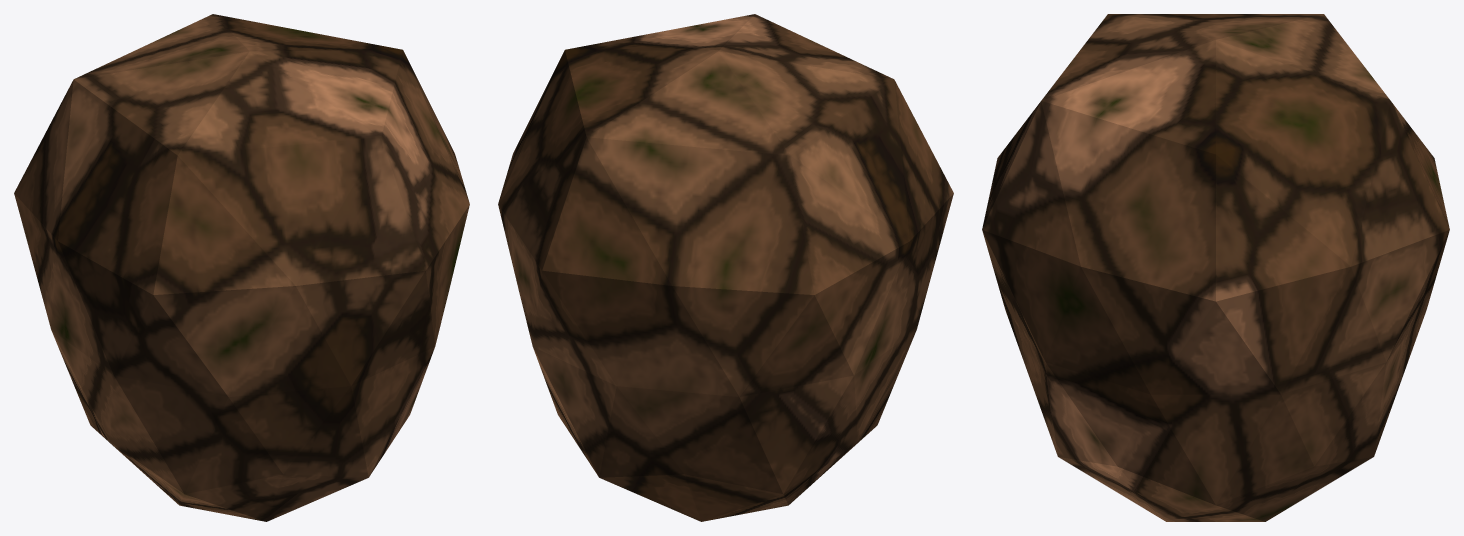
Rendered from PineCone.fbx.
3 renders of one model, left to right at view 1: azimuth 30°, elevation 25°; view 2: azimuth 150°, elevation 25°; view 3: azimuth 270°, elevation 25°, orthographic. The views are drawn at different scales.
Visible parts, largest first — view 1: Cone; view 2: Cone; view 3: Cone.
Boxes of the visible parts, x1,y1,x2,y2 form: Cone: (14, 14, 469, 521); Cone: (498, 14, 953, 521); Cone: (982, 14, 1449, 521).
Size of the model in its own units: 284 by 316 by 279.
